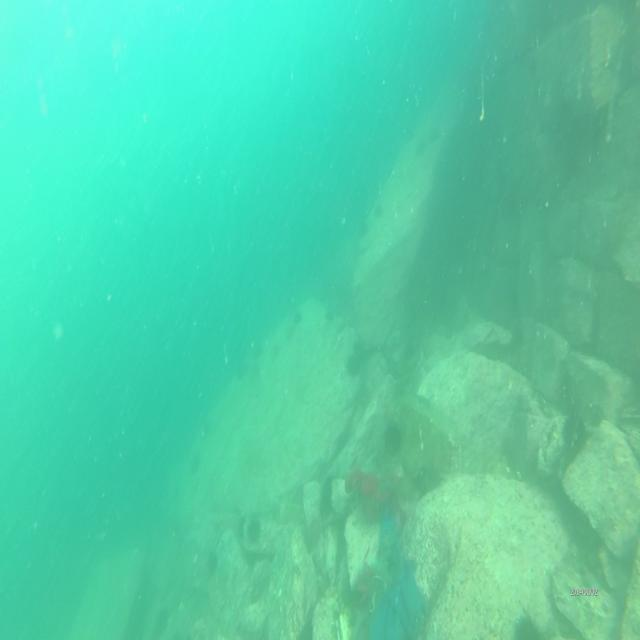echinus: (559, 409, 589, 454), (381, 421, 403, 458), (246, 516, 267, 544), (205, 549, 219, 578), (342, 353, 358, 376)
